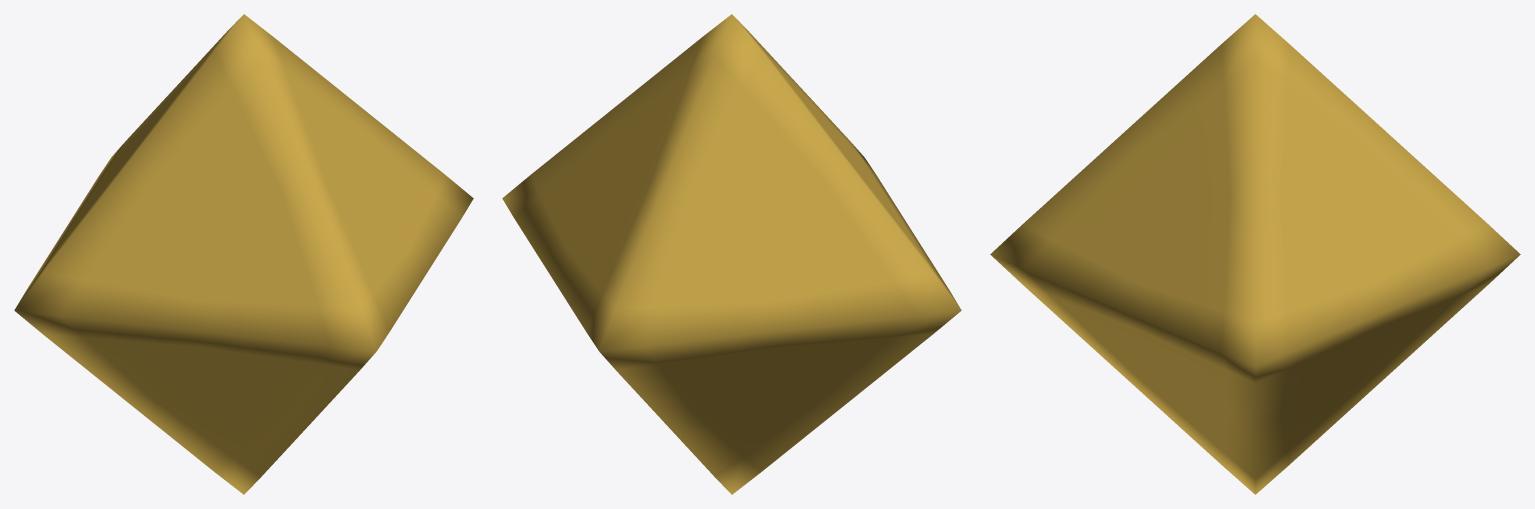
Rendered from GOLDOctahedronMotion.glb.
3 views of the same model, side by side, from view 1: azimuth 30°, elevation 25°; view 2: azimuth 150°, elevation 25°; view 3: azimuth 270°, elevation 25° (orthographic).
Visible parts, largest first — view 1: Octahedron; view 2: Octahedron; view 3: Octahedron.
Part boxes in pixels (x1,y1,x2,y2): Octahedron: (14,14,473,494); Octahedron: (502,14,961,494); Octahedron: (990,14,1520,494).
Bounding box in the file's own units: 2.02 × 2.02 × 2.02.
1 material, 1 textured.
